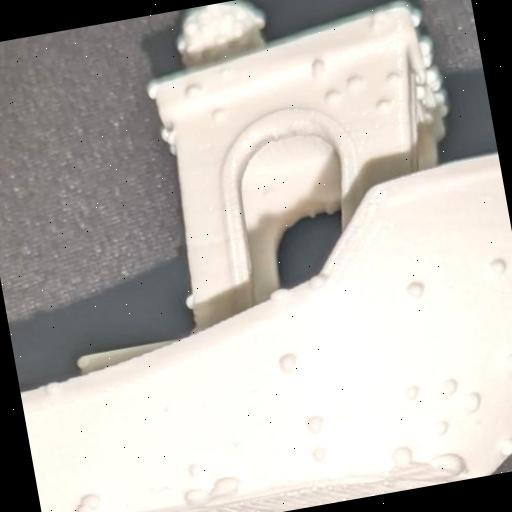blobs: (427, 440, 472, 482), (174, 479, 218, 512), (386, 438, 422, 472), (453, 387, 487, 417), (302, 436, 336, 466), (300, 408, 334, 437), (408, 34, 437, 68), (417, 62, 446, 96), (274, 342, 305, 372), (72, 488, 108, 512), (214, 468, 243, 496), (368, 90, 396, 118), (483, 250, 512, 277), (402, 274, 430, 301), (402, 376, 428, 404), (494, 342, 512, 382), (180, 457, 208, 482), (340, 67, 367, 92), (376, 68, 404, 92), (304, 54, 334, 76), (436, 373, 462, 398), (264, 281, 294, 302), (304, 270, 332, 292), (429, 418, 455, 440), (204, 100, 229, 122), (407, 6, 432, 28), (178, 293, 202, 313), (180, 82, 206, 100), (226, 437, 246, 454), (497, 435, 512, 456), (324, 86, 342, 102), (68, 503, 100, 512)
